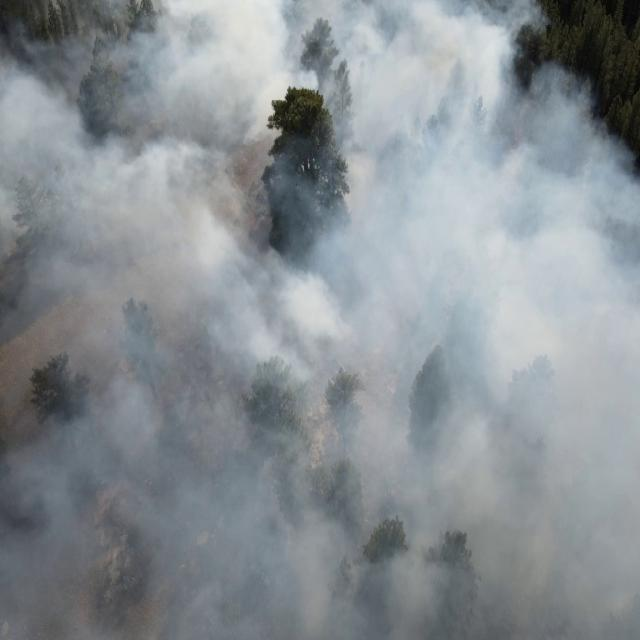smoke: (0, 0, 549, 640), (549, 155, 640, 640), (550, 64, 592, 154), (592, 118, 609, 154), (610, 138, 630, 154)
